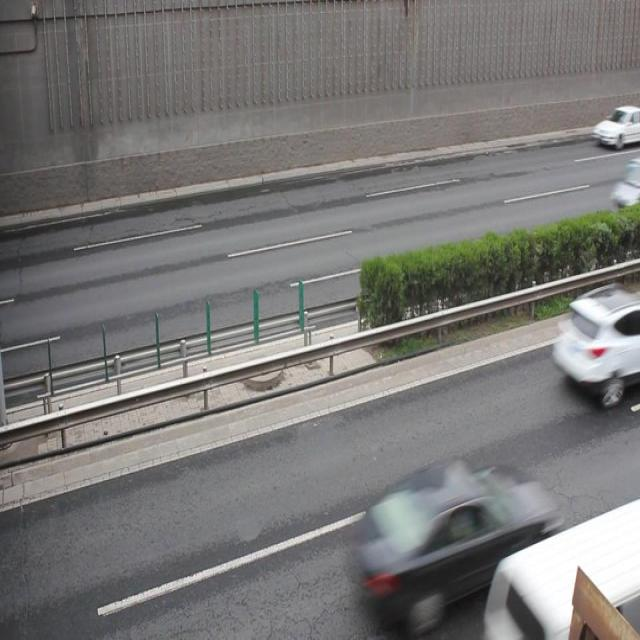car: (348, 464, 557, 618), (554, 290, 640, 405), (592, 105, 640, 147)
truck: (484, 506, 640, 640)
